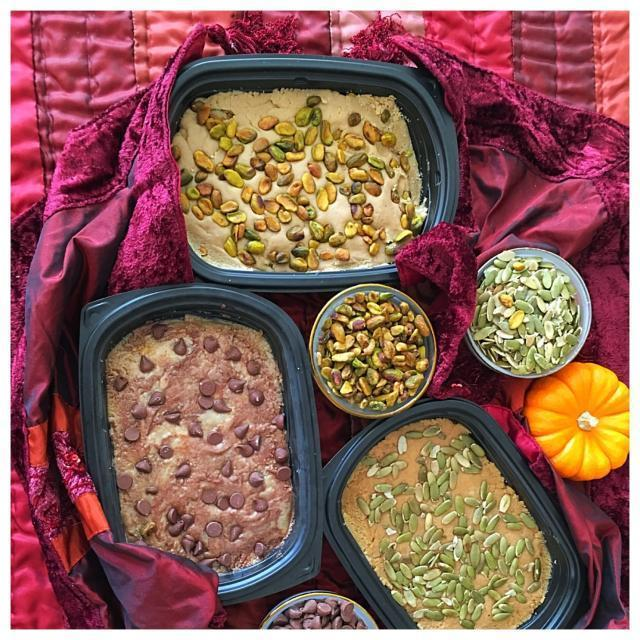halawa: (104, 316, 298, 580)
